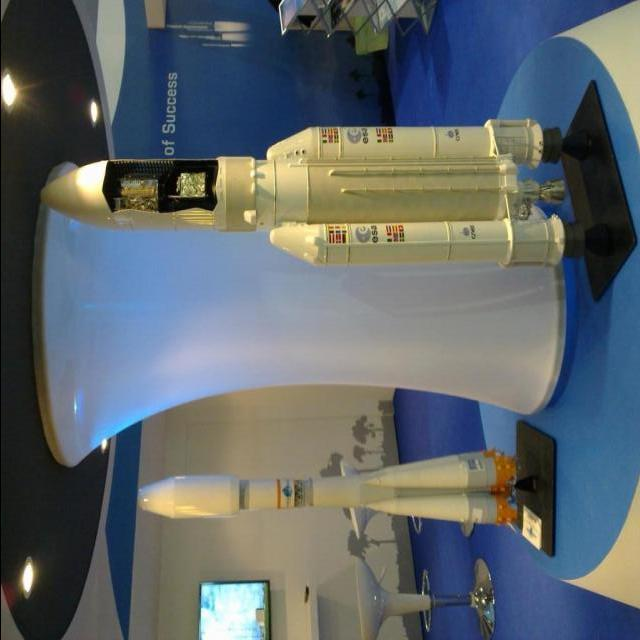missile: (23, 149, 558, 227), (261, 213, 581, 272), (137, 464, 380, 520), (349, 449, 520, 499), (382, 487, 522, 525)
